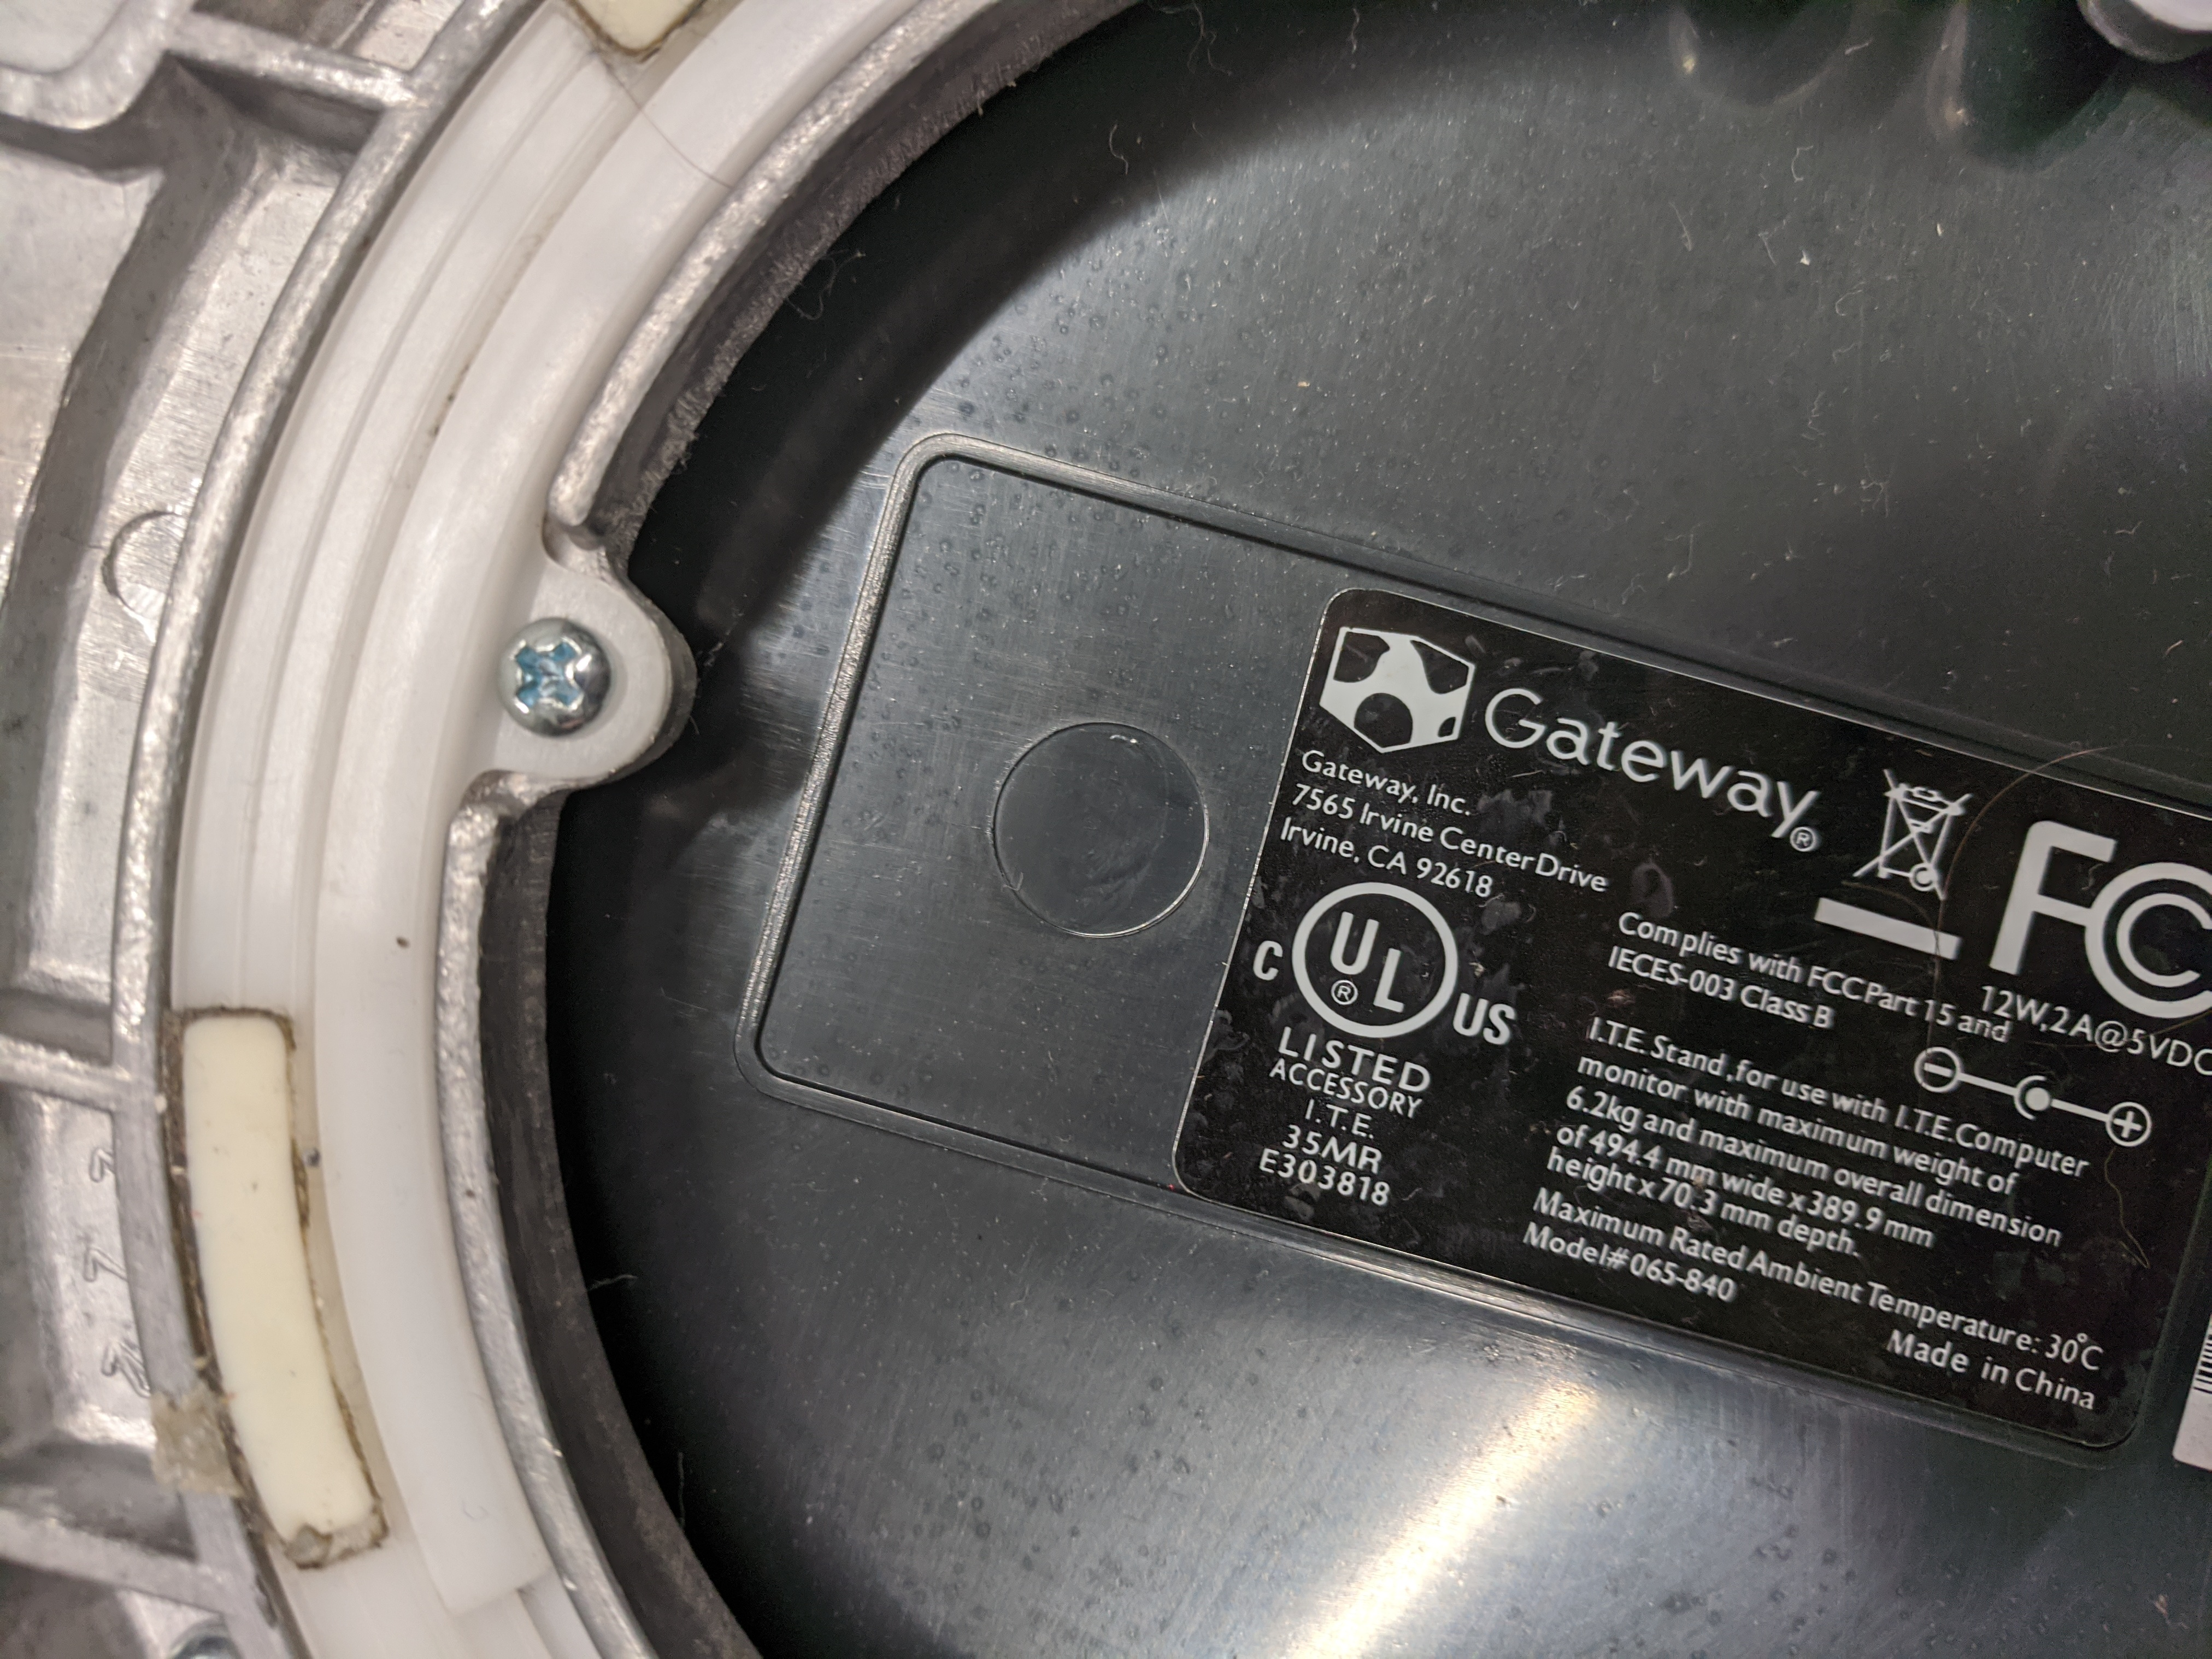cross_recessed_screw: (489, 612, 610, 732)
